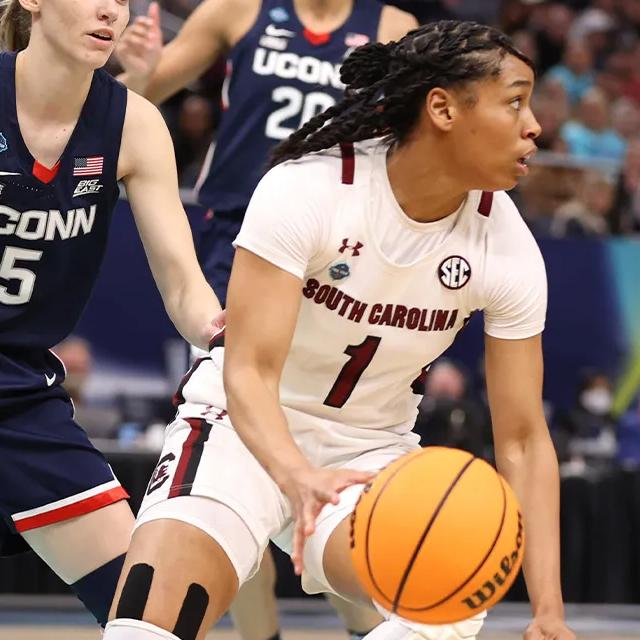basketball: (351, 450, 526, 620)
